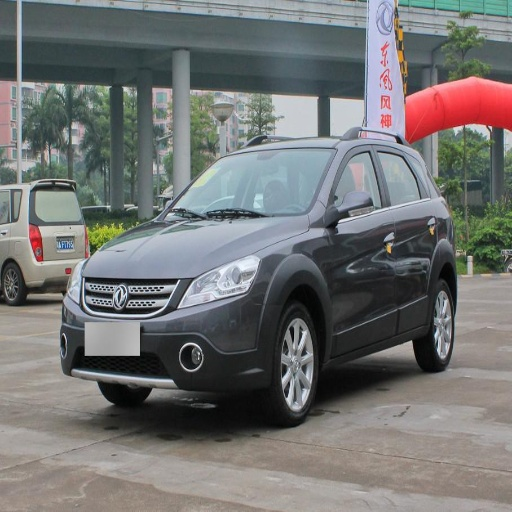front_bumper: (60, 276, 279, 394)
front_glass: (171, 148, 334, 219)
front_left_door: (327, 143, 397, 350)
